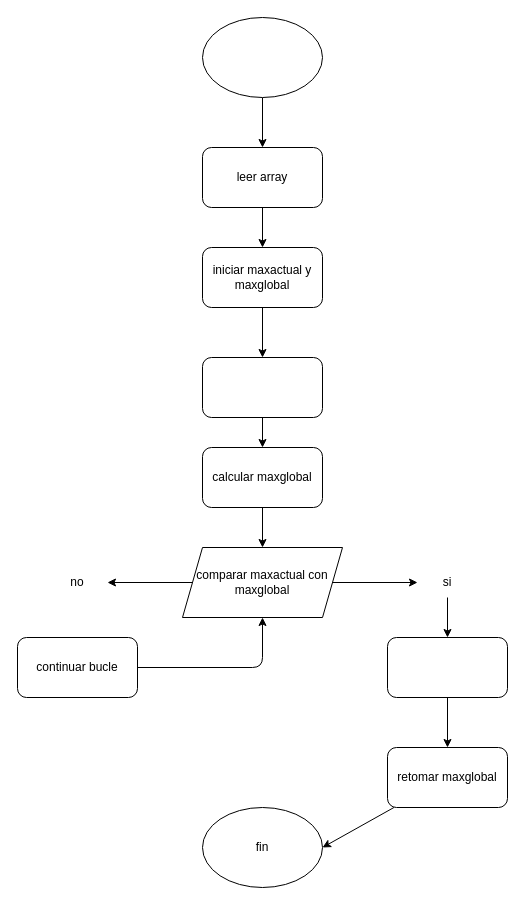
This 525x905 diagram has some shape labels left out. The centre of each missing label's shape, as x and y in pixels:
inicio: [262,57]
iterar sobre el array: [262,387]
maxactual = maxglblobal: [447,667]
